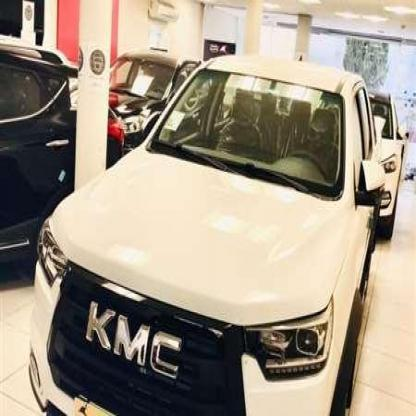Car: (41, 59, 379, 416), (0, 18, 128, 281), (104, 30, 209, 171), (335, 102, 416, 235)
